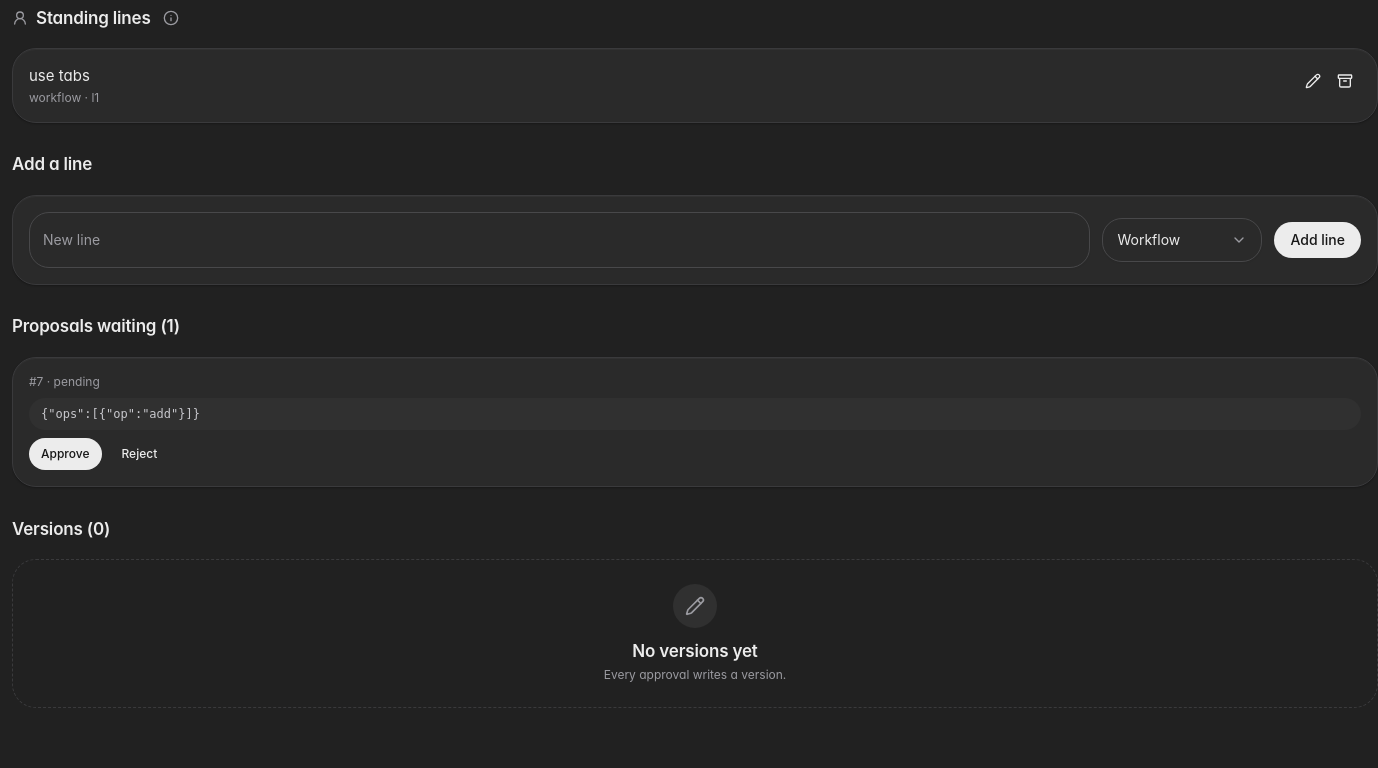
Test: ProfileSettings › approves and rejects queue items
Expected: the text "#7 · pending" is shown, x1=29 y1=374 x2=100 y2=389
Click the button "Approve": (65, 454) x1=29 y1=438 x2=102 y2=470
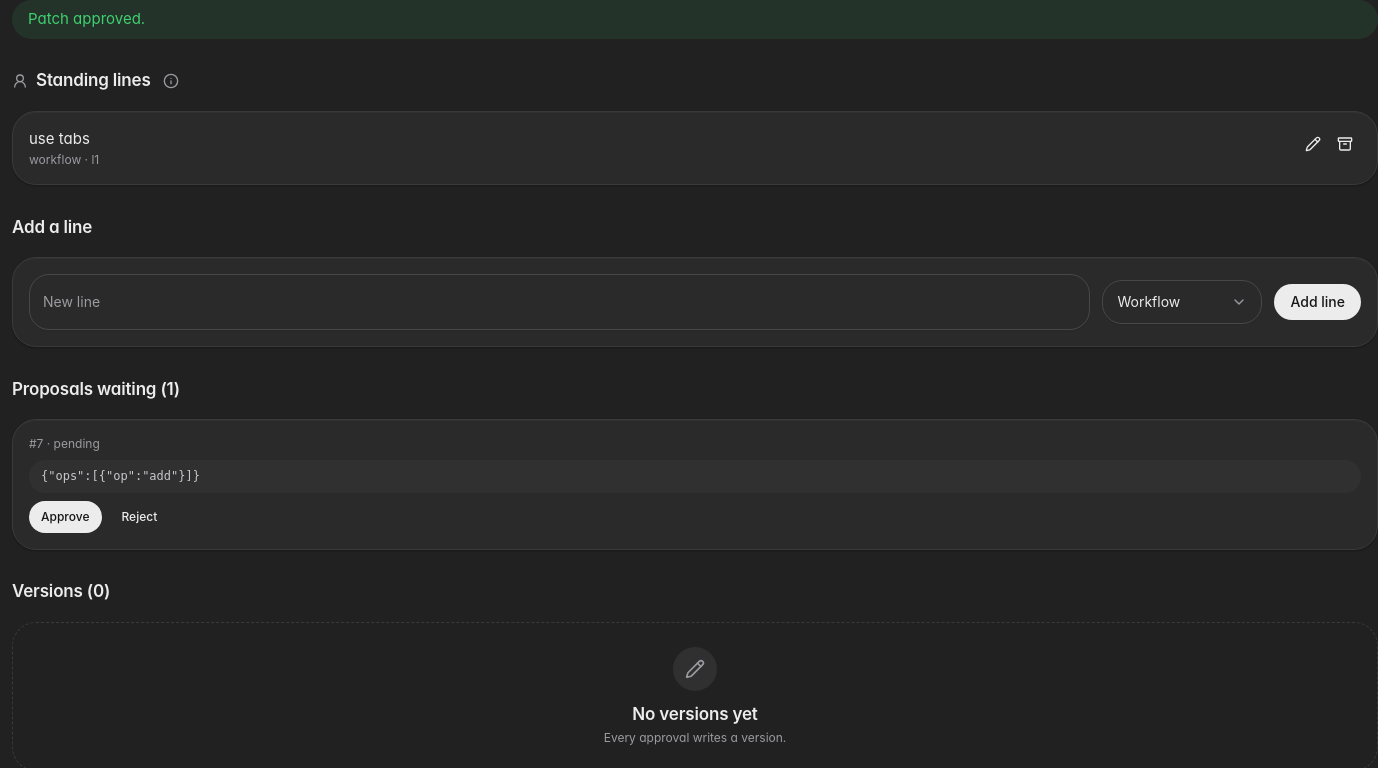
Result: the text "Patch approved." is shown at x1=12 y1=0 x2=1377 y2=38
